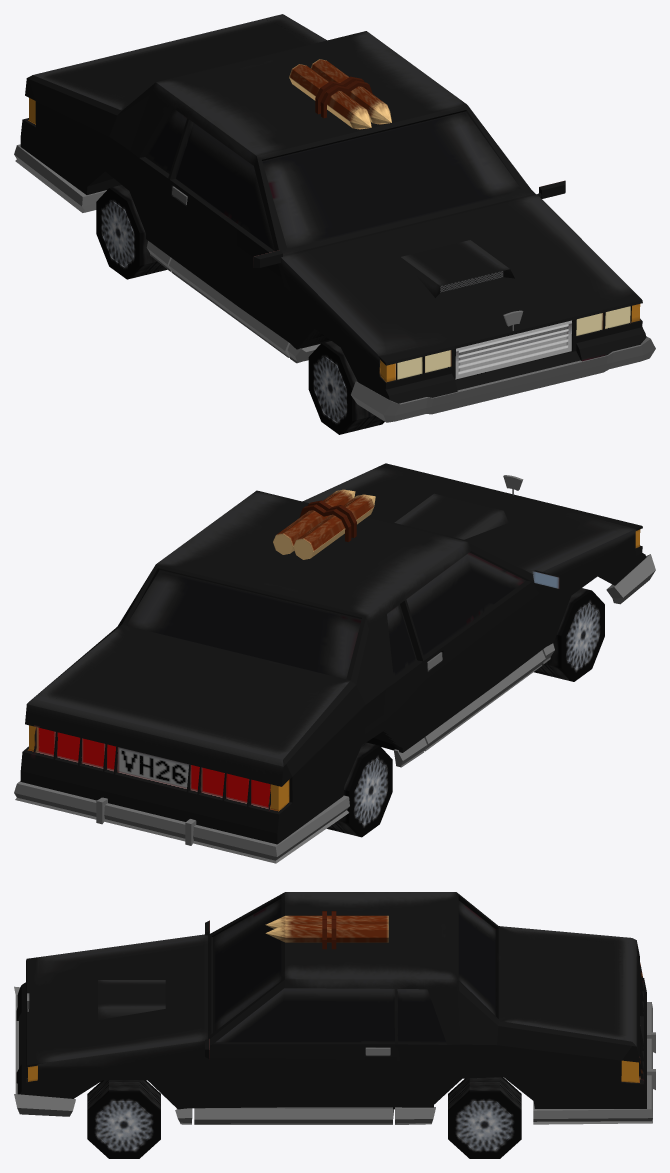
Rendered from coche.fbx.
The picture shows the model from 3 angles, top to bottom: view 1: azimuth 30°, elevation 25°; view 2: azimuth 150°, elevation 25°; view 3: azimuth 270°, elevation 25°; orthographic projection. The views are drawn at different scales.
Parts seen in each view (by area): view 1: cuerpo principal, Maletero, Ruedas, ParachTras, TomaAire, Estacas, Lip, ParachDel, estacas cuerda, Espejo; view 2: cuerpo principal, Maletero, Ruedas, ParachDel, Estacas, TomaAire, Lip, ParachTras, estacas cuerda; view 3: cuerpo principal, Maletero, Ruedas, Lip, Estacas, ParachDel, TomaAire, ParachTras, lip atras, estacas cuerda.
Part boxes in pixels (x1=…): cuerpo principal: x1=20, y1=14, x2=646, y2=403; Maletero: x1=53, y1=18, x2=316, y2=108; Ruedas: x1=96, y1=185, x2=384, y2=434; ParachTras: x1=351, y1=336, x2=655, y2=422; TomaAire: x1=401, y1=240, x2=514, y2=297; Estacas: x1=289, y1=59, x2=391, y2=129; Lip: x1=169, y1=258, x2=289, y2=357; ParachDel: x1=14, y1=144, x2=106, y2=212; estacas cuerda: x1=315, y1=76, x2=372, y2=118; Espejo: x1=253, y1=180, x2=565, y2=267; cuerpo principal: x1=20, y1=463, x2=646, y2=844; Maletero: x1=49, y1=625, x2=345, y2=760; Ruedas: x1=327, y1=588, x2=604, y2=837; ParachDel: x1=14, y1=781, x2=349, y2=863; Estacas: x1=273, y1=489, x2=375, y2=559; TomaAire: x1=394, y1=493, x2=508, y2=539; Lip: x1=424, y1=650, x2=545, y2=751; ParachTras: x1=606, y1=554, x2=655, y2=604; estacas cuerda: x1=299, y1=500, x2=356, y2=541; cuerpo principal: x1=16, y1=892, x2=646, y2=1109; Maletero: x1=498, y1=928, x2=636, y2=1036; Ruedas: x1=87, y1=1077, x2=521, y2=1158; Lip: x1=194, y1=1107, x2=393, y2=1124; Estacas: x1=265, y1=915, x2=388, y2=942; ParachDel: x1=533, y1=1002, x2=655, y2=1124; TomaAire: x1=98, y1=980, x2=165, y2=1019; ParachTras: x1=14, y1=986, x2=75, y2=1116; lip atras: x1=395, y1=1107, x2=435, y2=1124; estacas cuerda: x1=322, y1=911, x2=336, y2=949.
Bounding box in the file's own units: 165 × 501 × 239.
Materials: 1 (1 with a texture image).
